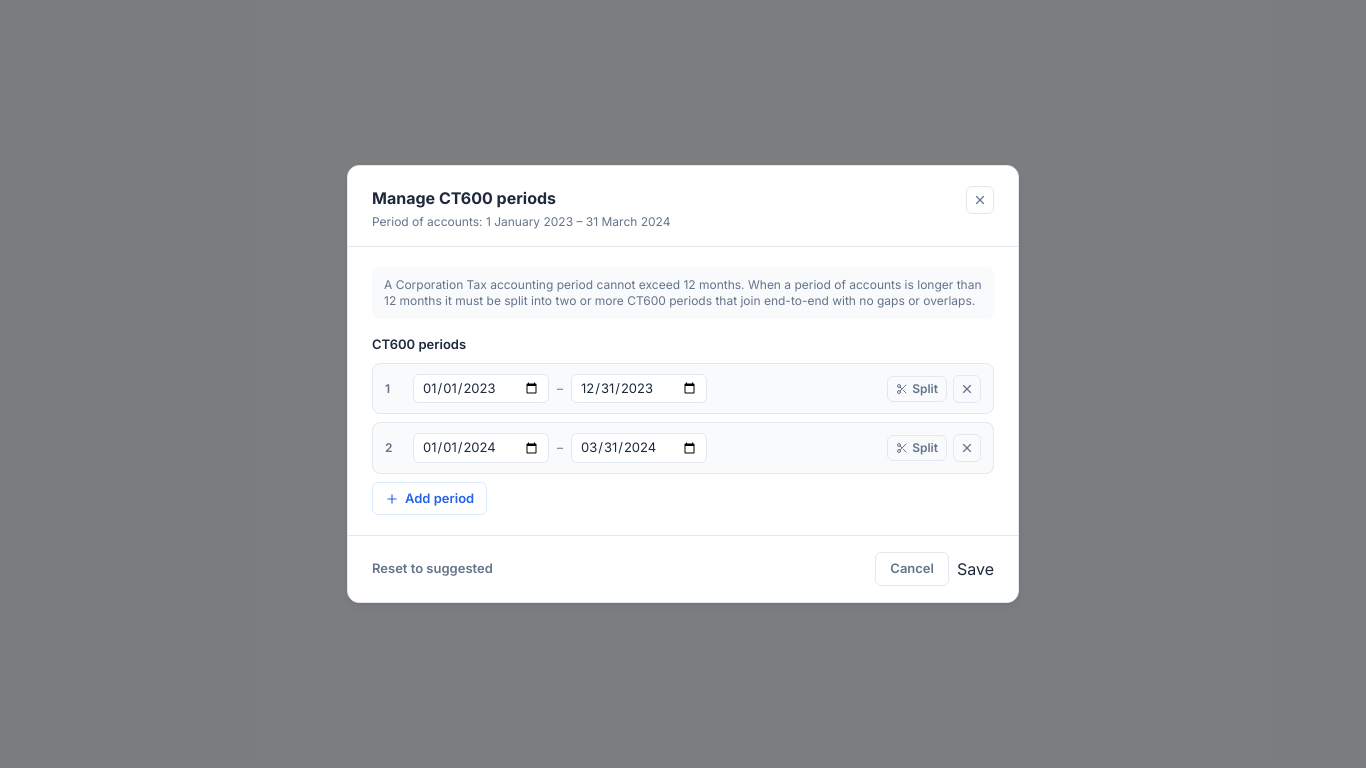
Ct600PeriodEditor › shows a validation error and disables Save when a row exceeds 12 months
Note: Edit first row's end date to make it span more than 12 months
Type "2024-06-30" into the date field showing "2023-12-31".
click(639, 389); type("2024-06-30")  # box [571,374,707,403]
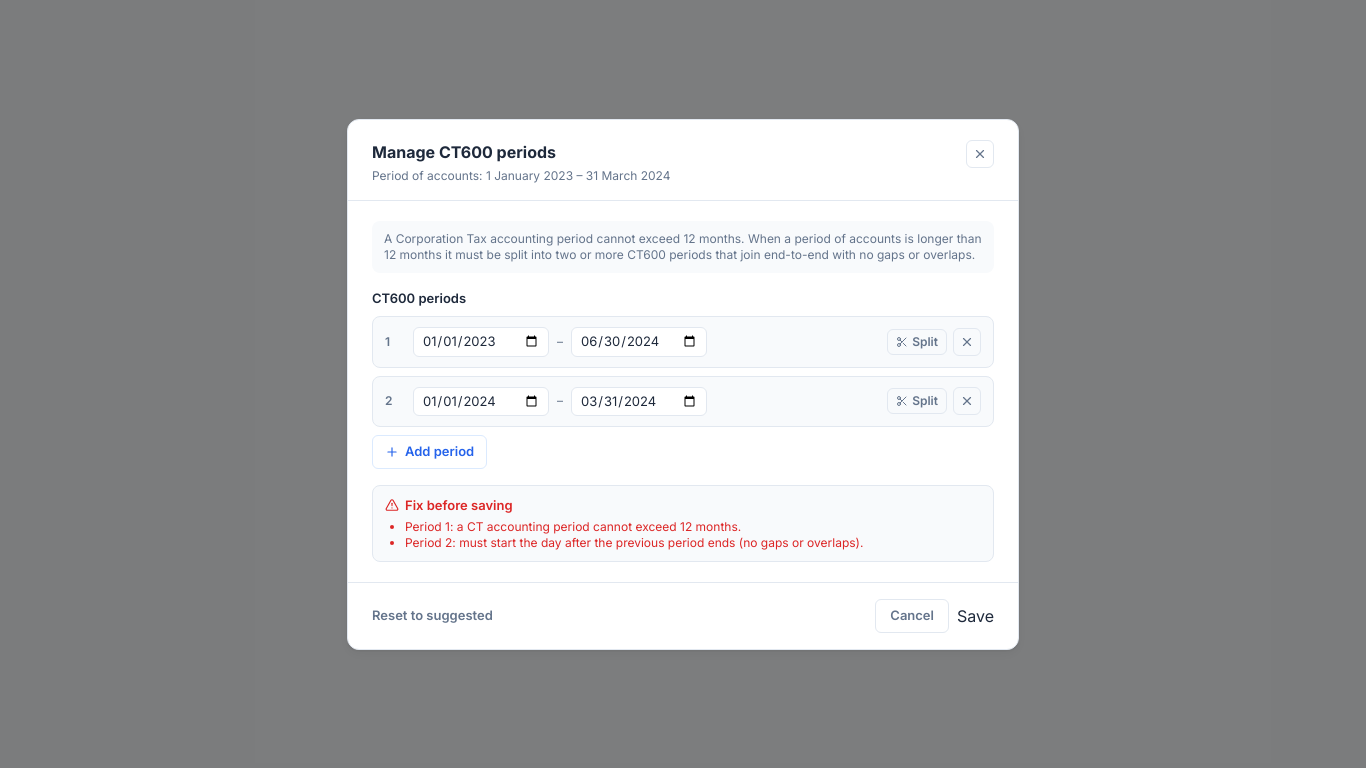
Check: the list item "Period 1: a CT accounting period cannot exceed 12 months." is shown, box [405,519,741,534]
Check: the button "Save" is disabled, box [957,604,994,628]
